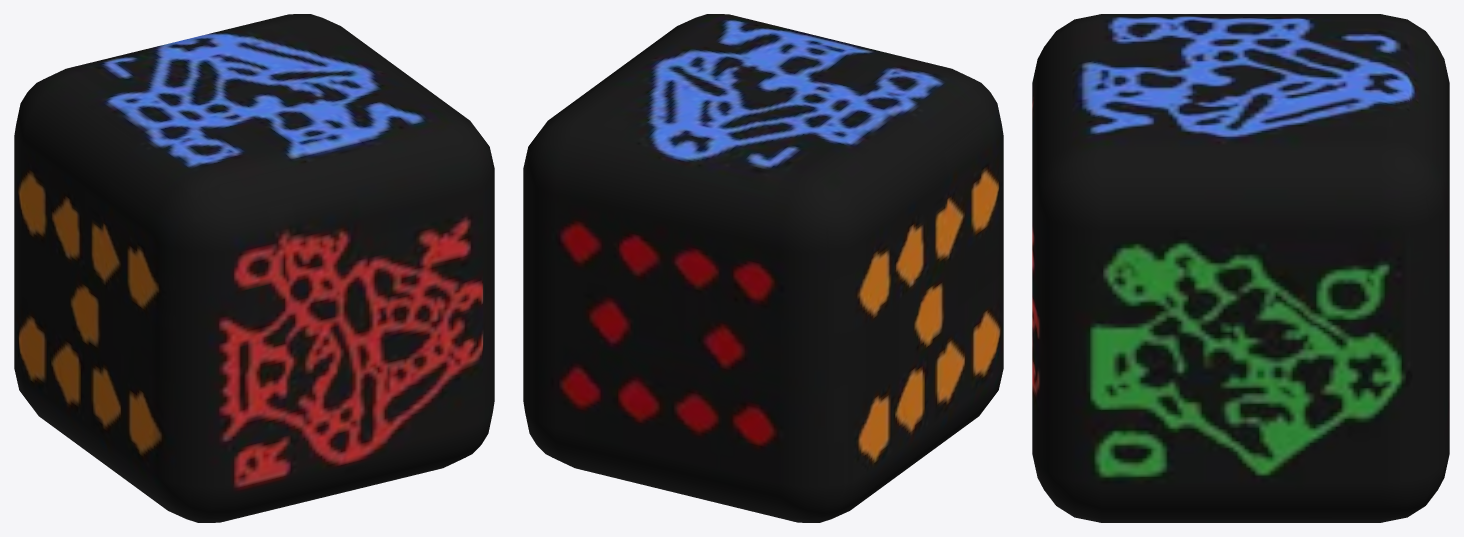
Rendered from HallowedDice.glb.
3 views of the same model, side by side, from view 1: azimuth 30°, elevation 25°; view 2: azimuth 150°, elevation 25°; view 3: azimuth 270°, elevation 25° (orthographic). The views are drawn at different scales.
Visible parts, largest first — view 1: OGdice; view 2: OGdice; view 3: OGdice.
Boxes of the visible parts, left/top/right/bottom form: OGdice: left=14, top=14, right=494, bottom=522; OGdice: left=523, top=14, right=1003, bottom=522; OGdice: left=1032, top=14, right=1449, bottom=522.
Bounding box in the file's own units: 2 × 2 × 2.
Materials: 1 (1 with a texture image).
